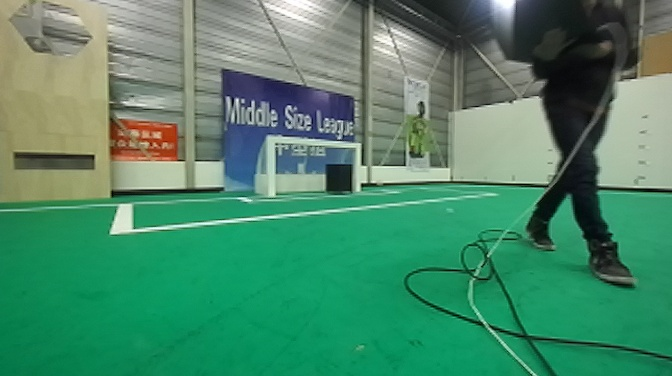ball: (373, 176, 385, 186)
goalpost: (262, 127, 277, 199), (354, 141, 362, 194)
human: (495, 1, 651, 292)
